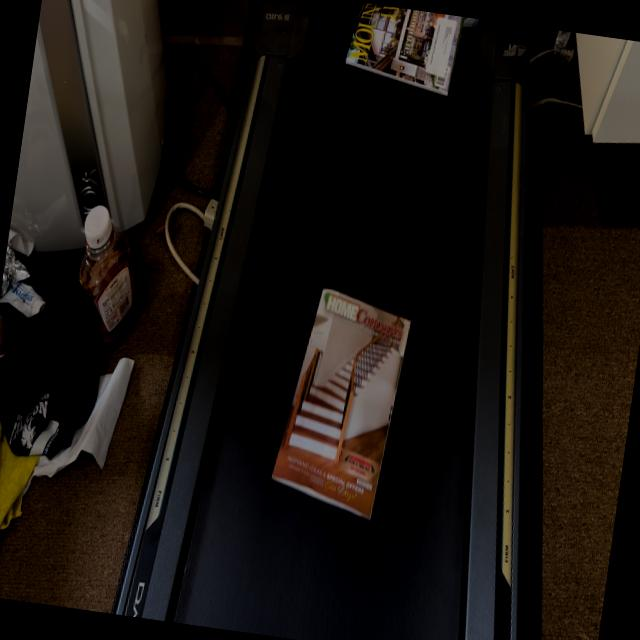Recycle: (267, 284, 415, 528), (342, 2, 464, 99)
